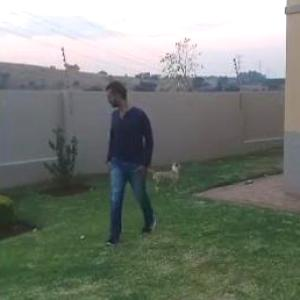follow: (105, 76, 158, 240)
